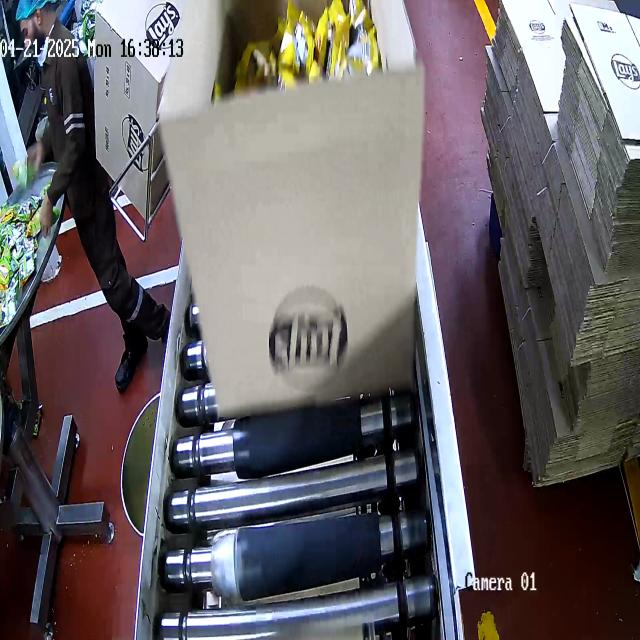SALTED: (229, 0, 382, 88)
